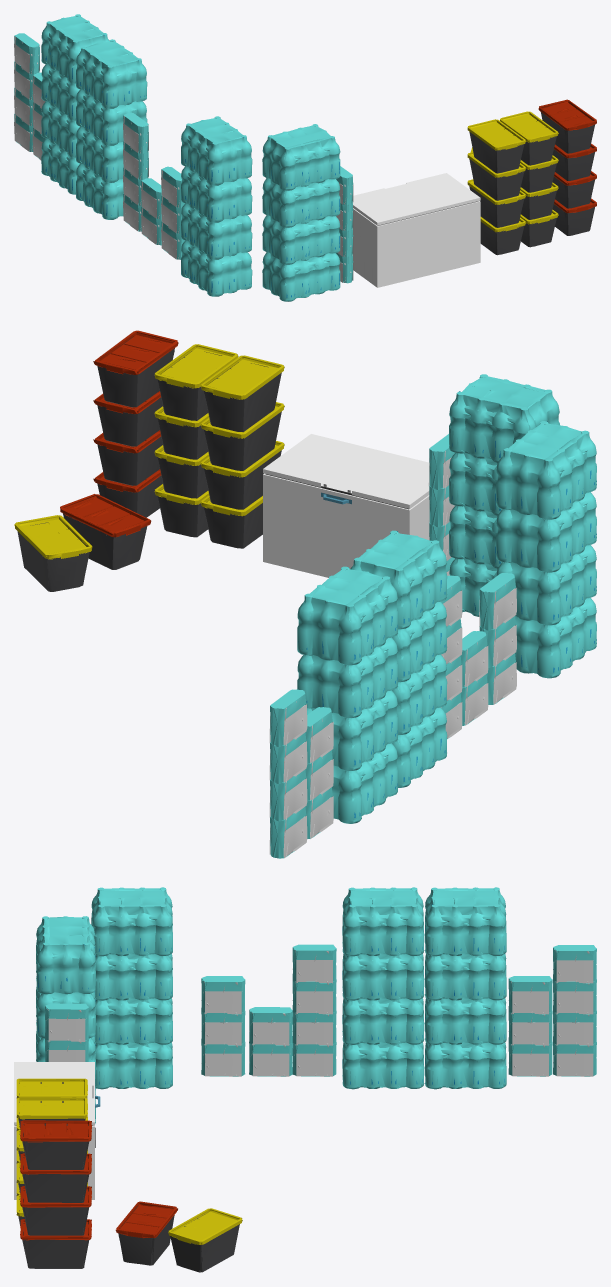
Rendered from basement-storage.glb.
3 views of the same model, one above another, from view 1: azimuth 30°, elevation 25°; view 2: azimuth 150°, elevation 25°; view 3: azimuth 270°, elevation 25° (orthographic). The views are drawn at different scales.
Visible parts, largest first — view 1: chest-freezer.002, cover004.028, cover004.024, cover004.032, cover004.025, cover004.026, cover004.027, cover004.029, cover004.031, cover004.030, cover004.020, Object023.013 (+33 smaller); view 2: chest-freezer.002, cover004.020, cover004.032, cover004.028, cover004.031, cover004.024, cover004.019, cover004.030, Object023.013, cover004.029, Object023.018, Object029.010 (+34 smaller); view 3: cover004.024, cover004.020, cover004.032, cover004.028, cover004.023, cover004.021, cover004.022, cover004.018, cover004.017, cover004.019, cover004.031, cover004.030 (+29 smaller).
Boxes of the visible parts, <box> form: chest-freezer.002: <box>353,173,480,287</box>; cover004.028: <box>262,124,340,190</box>; cover004.024: <box>76,39,147,108</box>; cover004.032: <box>181,116,252,185</box>; cover004.025: <box>262,252,340,301</box>; cover004.026: <box>262,215,340,264</box>; cover004.027: <box>262,178,340,227</box>; cover004.029: <box>181,240,252,296</box>; cover004.031: <box>181,166,252,222</box>; cover004.030: <box>181,203,252,259</box>; cover004.020: <box>41,14,109,83</box>; Object023.013: <box>467,119,526,173</box>; chest-freezer.002: <box>263,434,429,577</box>; cover004.020: <box>297,566,397,665</box>; cover004.032: <box>496,421,596,519</box>; cover004.028: <box>449,374,559,462</box>; cover004.031: <box>496,492,596,572</box>; cover004.024: <box>350,530,447,629</box>; cover004.019: <box>297,637,397,718</box>; cover004.030: <box>496,545,596,625</box>; Object023.013: <box>200,355,284,432</box>; cover004.029: <box>515,598,596,678</box>; Object023.018: <box>14,515,92,591</box>; Object029.010: <box>60,494,151,569</box>; cover004.024: <box>342,887,424,956</box>; cover004.020: <box>424,887,506,956</box>; cover004.032: <box>91,887,172,956</box>; cover004.028: <box>36,916,95,994</box>; cover004.023: <box>342,953,424,1000</box>; cover004.021: <box>342,1041,424,1089</box>; cover004.022: <box>342,997,424,1044</box>; cover004.018: <box>424,1041,506,1089</box>; cover004.017: <box>424,997,506,1044</box>; cover004.019: <box>424,953,506,1000</box>; cover004.031: <box>95,953,172,1000</box>; cover004.030: <box>95,997,172,1044</box>.
Size of the model in its own units: 2.6 by 1.03 by 3.
